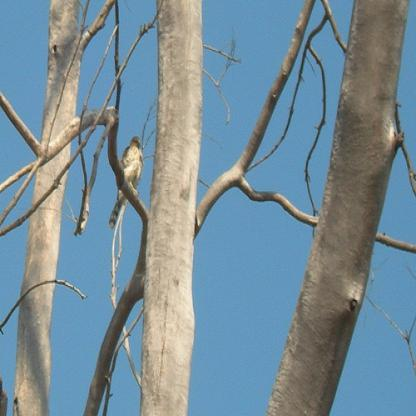bird: (107, 128, 142, 224)
